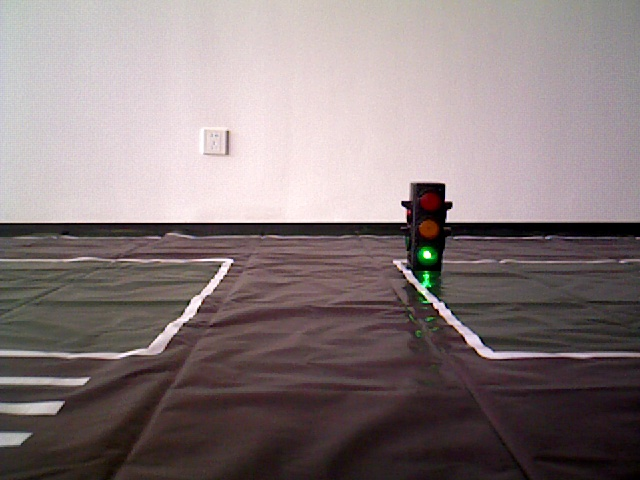green: (409, 185, 445, 262)
